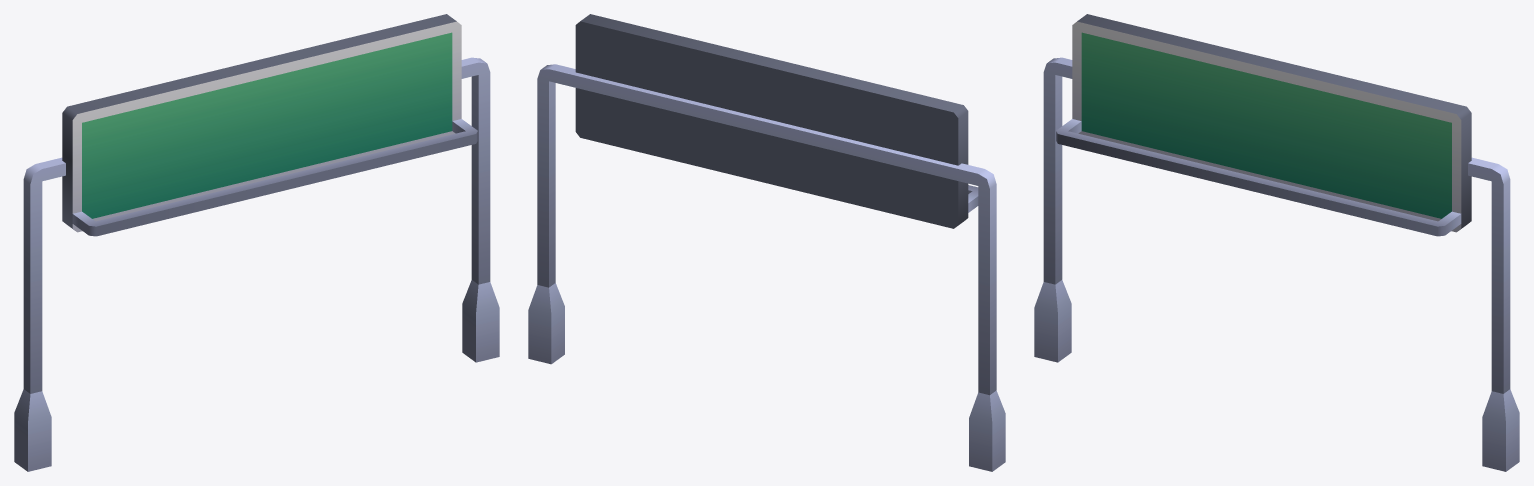
Rendered from nc_highway_sign.glb.
The picture shows the model from 3 angles, left to right: view 1: azimuth 30°, elevation 25°; view 2: azimuth 150°, elevation 25°; view 3: azimuth 330°, elevation 25°; orthographic projection.
Parts seen in each view (by area): view 1: sign-highway-wide; view 2: sign-highway-wide; view 3: sign-highway-wide.
Part boxes in pixels (x1,y1,x2,y2): sign-highway-wide: (14,14,499,471); sign-highway-wide: (528,14,1005,471); sign-highway-wide: (1034,14,1519,471).
Size of the model in its own units: 9.19 by 6.5 by 1.22.
1 material, 1 textured.
